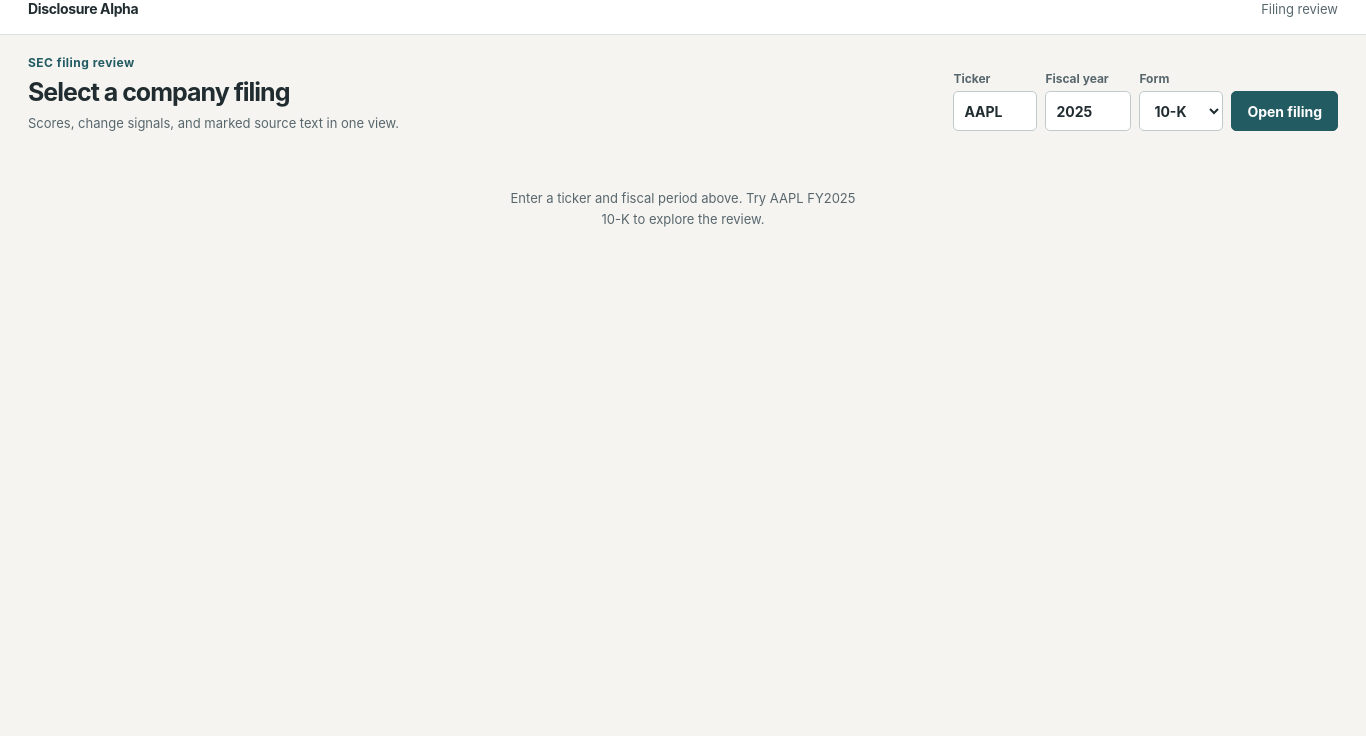
Test: filing review › ranks section changes and reveals signed drivers without marking text as a diff
Click the button "Open filing": [1285, 111] box [1231,91,1338,131]
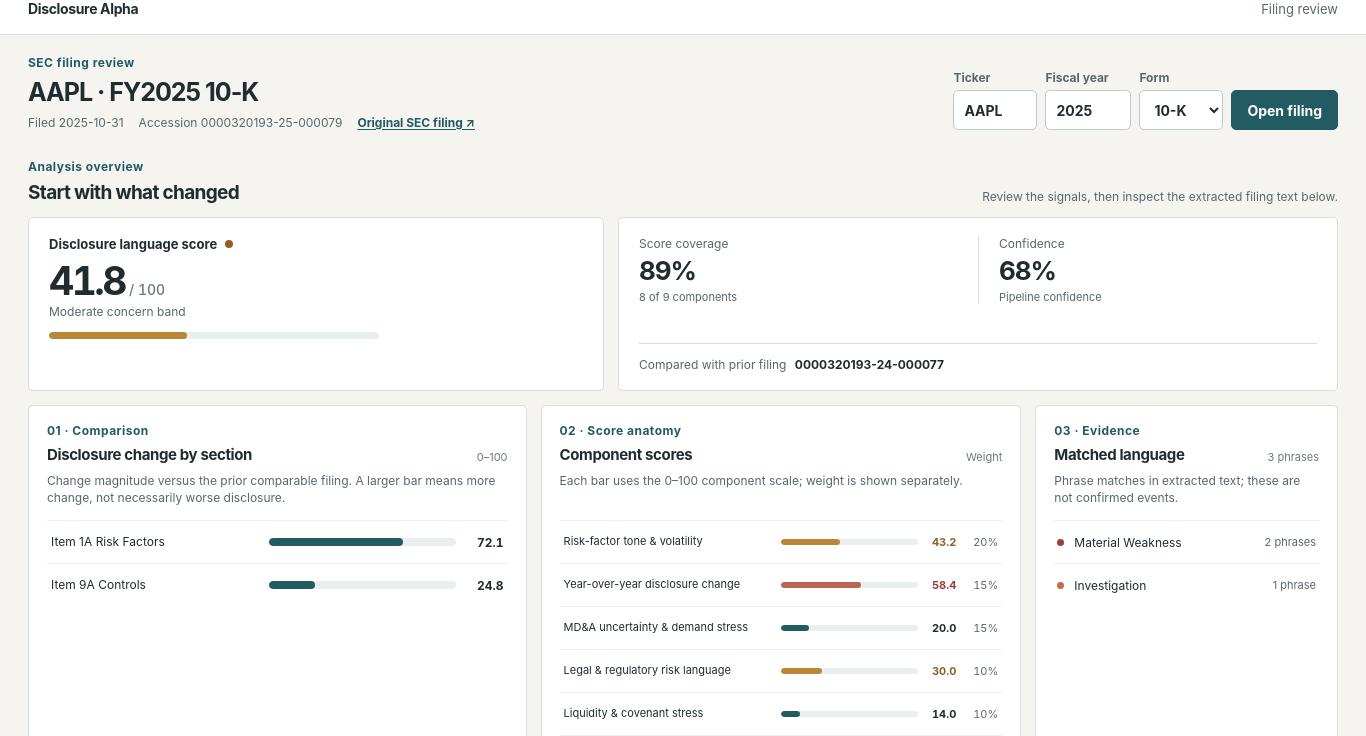
Click the button "Item 1A Risk Factors 72.1": [277, 542] box [47,520,508,563]
(page scrolled)
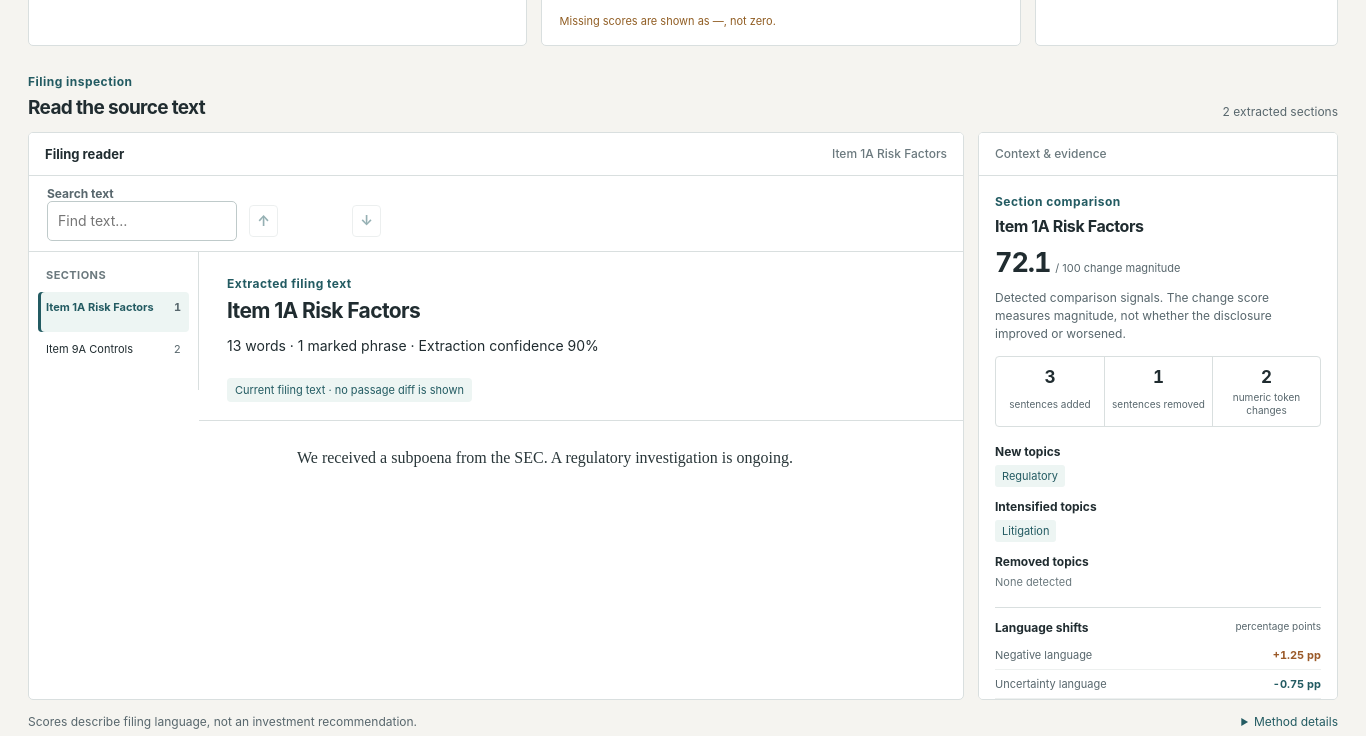
Result: the text "+1.25 pp" is shown at [1273,648,1321,662]
Result: the text "-0.75 pp" is shown at [1273,677,1321,691]
Result: the text "sentences added" is shown at [1009,398,1091,410]
